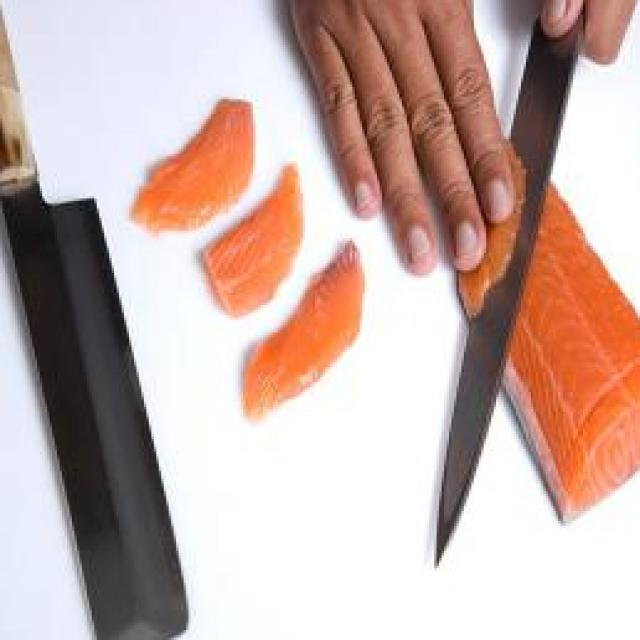knife: (0, 0, 196, 640), (434, 0, 598, 563)
